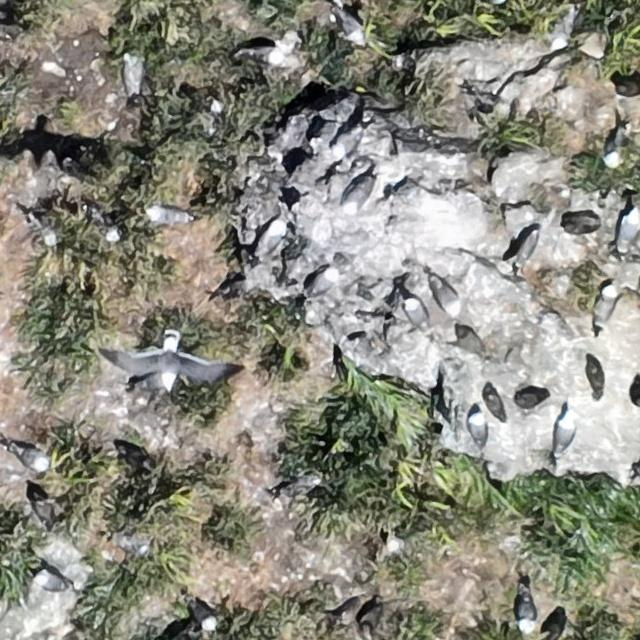F: (122, 332, 225, 394)
umineko: (252, 218, 287, 260), (343, 176, 377, 216), (328, 127, 366, 162), (431, 273, 461, 314), (604, 125, 630, 168), (190, 86, 224, 116), (244, 44, 284, 67), (13, 446, 48, 470), (86, 221, 122, 244), (28, 218, 56, 246), (190, 601, 216, 631), (617, 211, 638, 247), (116, 534, 150, 556), (338, 10, 361, 42), (516, 594, 535, 632), (308, 270, 336, 294), (555, 415, 573, 451), (150, 208, 186, 226), (597, 289, 616, 323), (37, 572, 66, 592), (468, 410, 484, 444), (408, 302, 426, 325)
